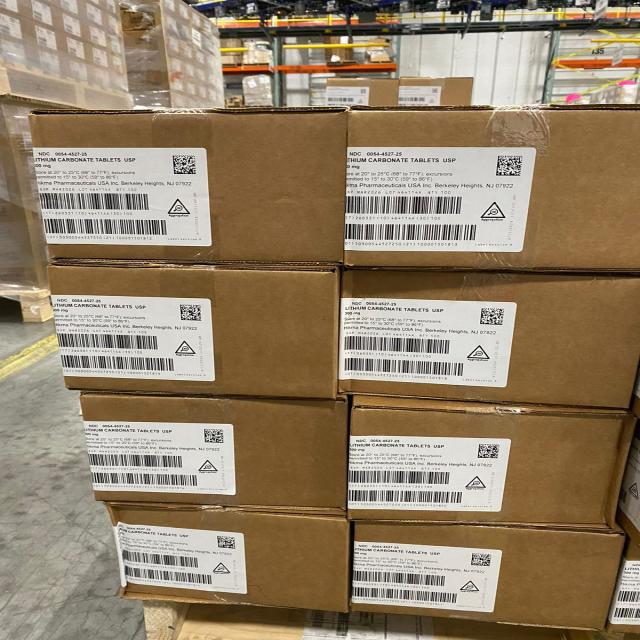BoxFace: (26, 104, 348, 264), (342, 103, 638, 270), (337, 268, 638, 408), (45, 261, 340, 399), (344, 394, 634, 526), (78, 390, 348, 510), (348, 519, 627, 631), (101, 501, 350, 614)
